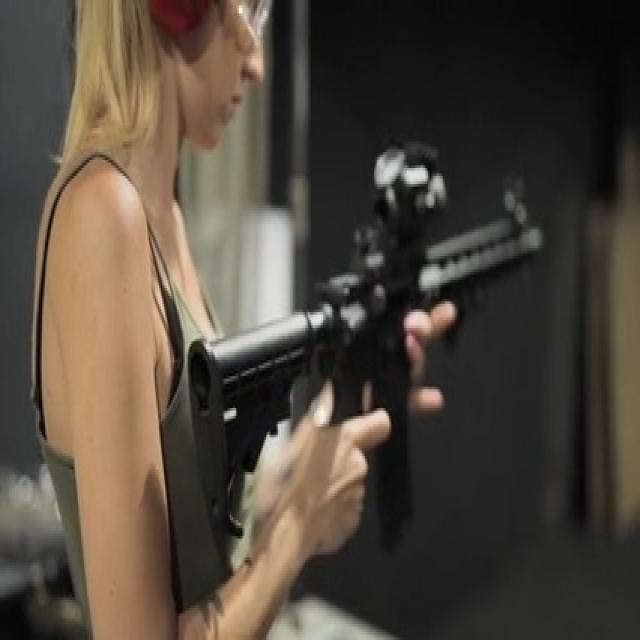Gun_Holder: (159, 145, 555, 535)
Person: (30, 0, 387, 640)
